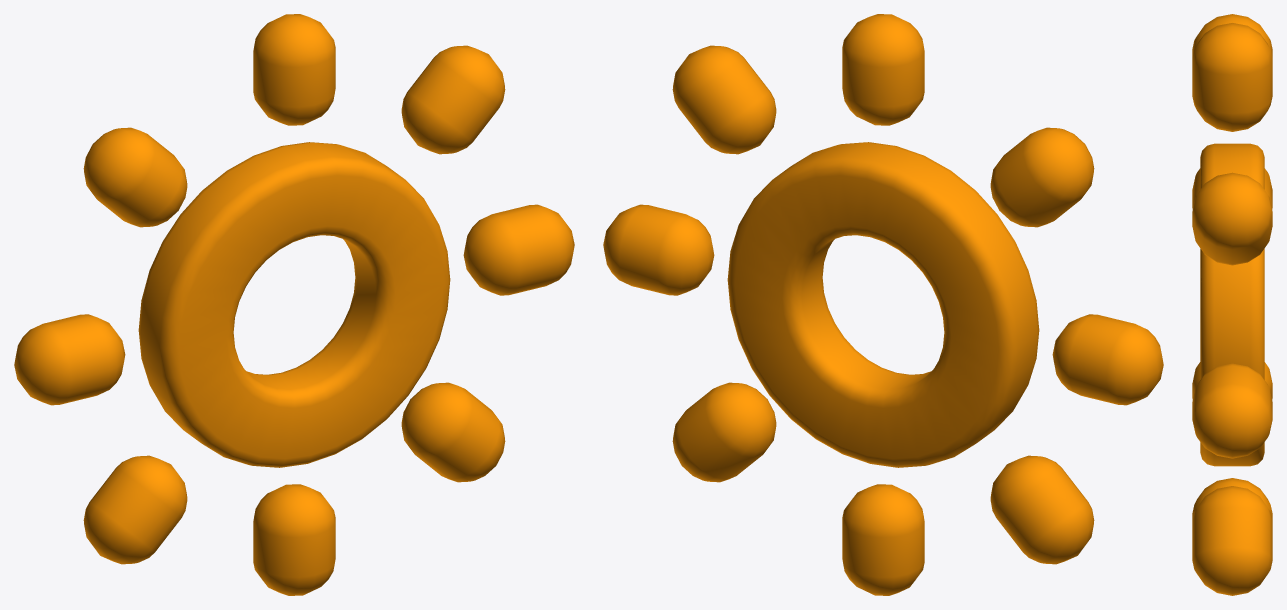
Rendered from dim_button.gltf.
3 views of the same model, side by side, from view 1: azimuth 30°, elevation 25°; view 2: azimuth 150°, elevation 25°; view 3: azimuth 270°, elevation 25° (orthographic). The views are drawn at different scales.
Parts seen in each view (by area): view 1: Circle.2632; view 2: Circle.2632; view 3: Circle.2632.
Boxes of the visible parts, x1,y1,x2,y2 form: Circle.2632: (14, 14, 574, 595); Circle.2632: (603, 14, 1163, 595); Circle.2632: (1192, 14, 1272, 595).
Bounding box in the file's own units: 1.94 × 1.94 × 0.2537.
1 material, 1 textured.
